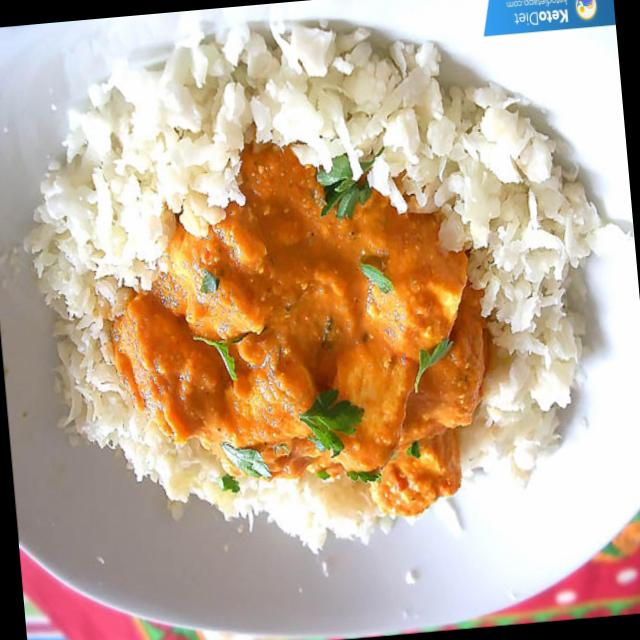rice: (472, 148, 565, 269)
